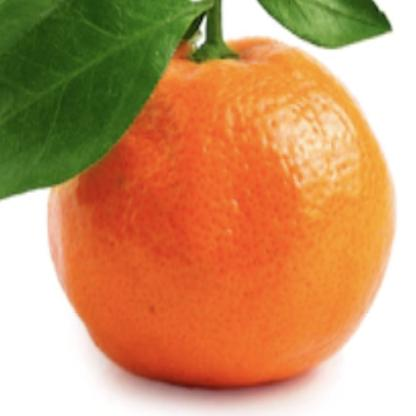fresh: (47, 19, 395, 385)
